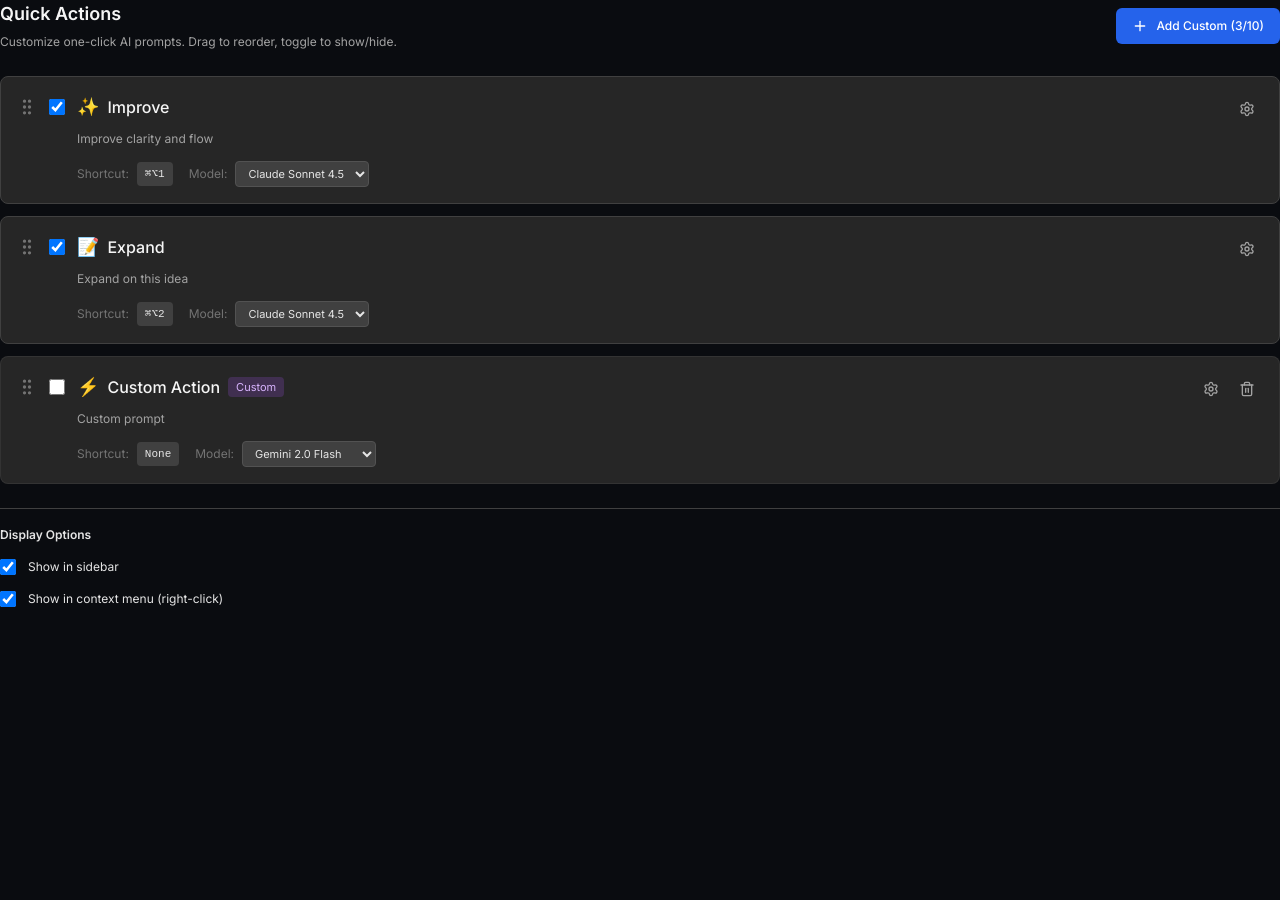
Test case: QuickActionsSettings › Add Custom Action › should close modal after successful add
Click the button "Add Custom (3/10)" at {"x": 1198, "y": 26}, box [1116,8,1279,44]
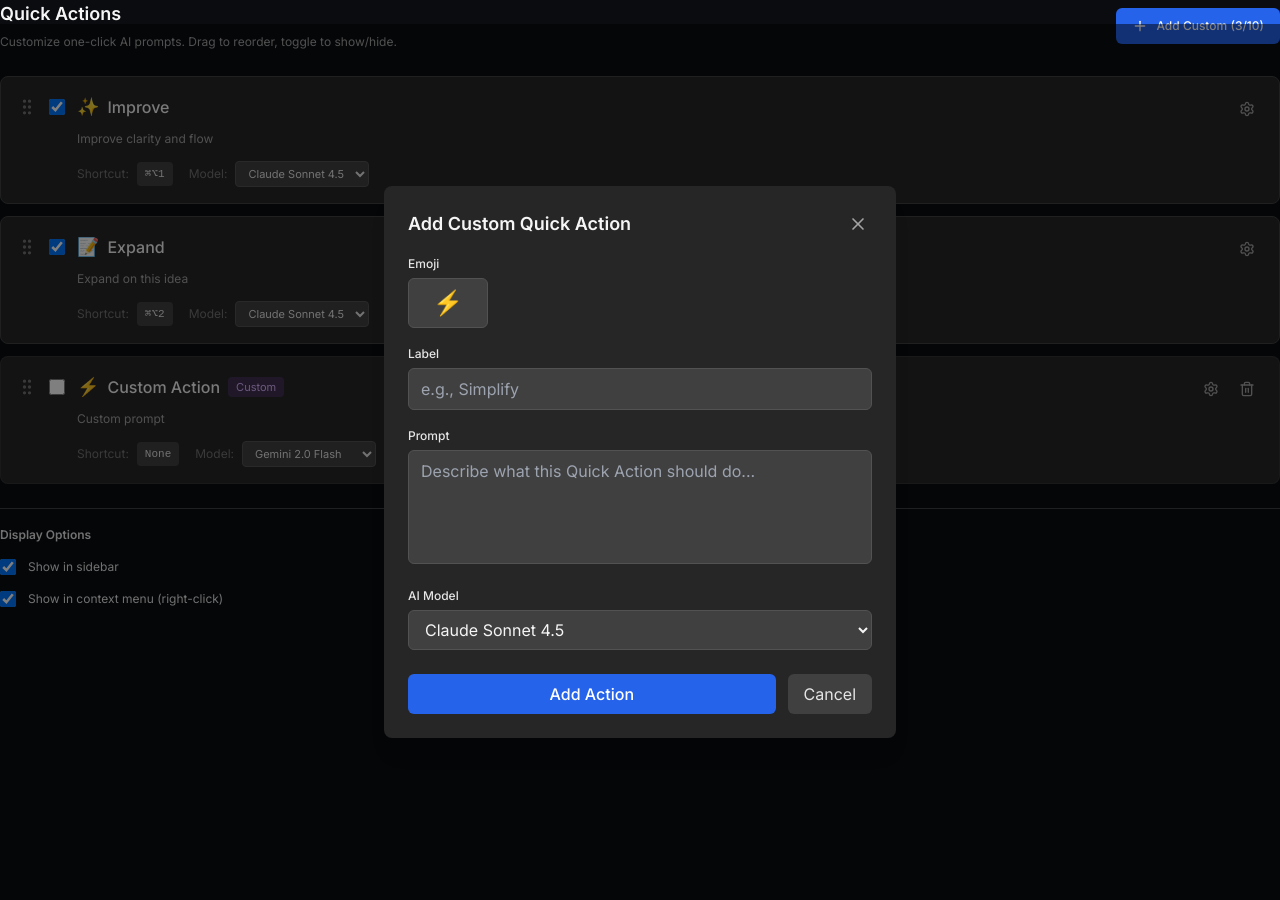
Type "Test" into the field with placeholder "e.g., Simplify" at {"x": 640, "y": 389}, box [408,368,872,410]
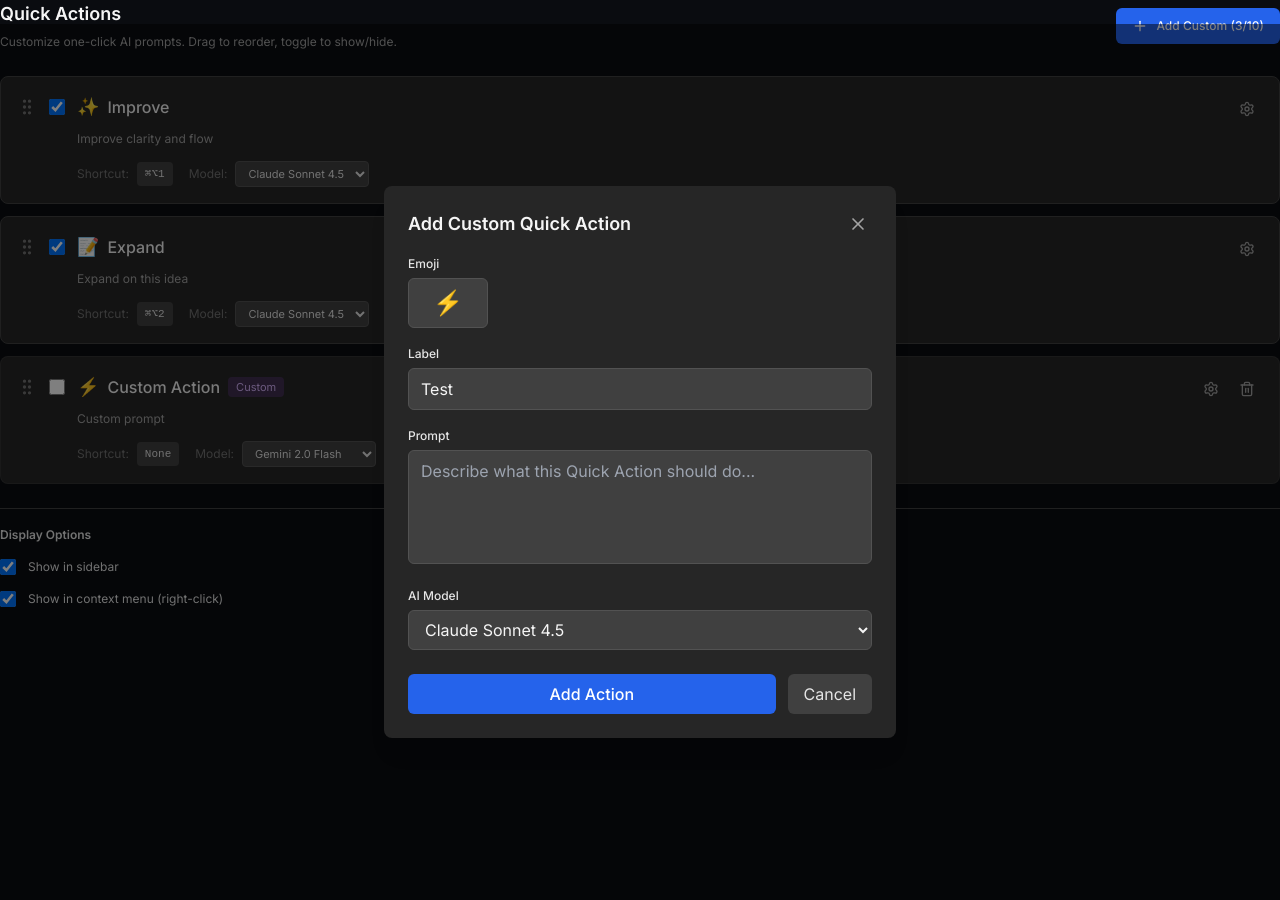
Type "Prompt" into the text box at {"x": 640, "y": 507}, box [408,450,872,564]
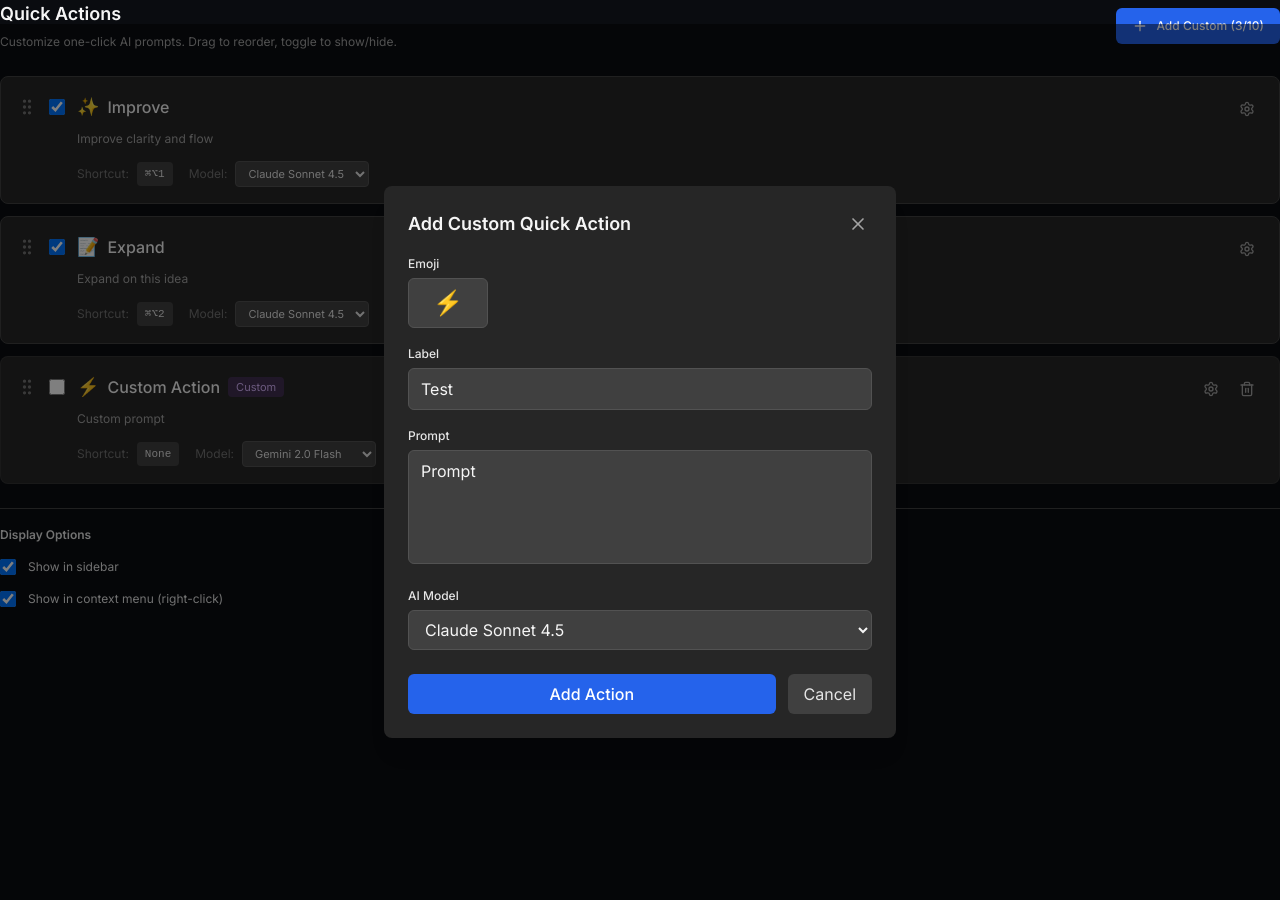
Click the button "Add Action" at {"x": 592, "y": 694}, box [408,674,776,714]
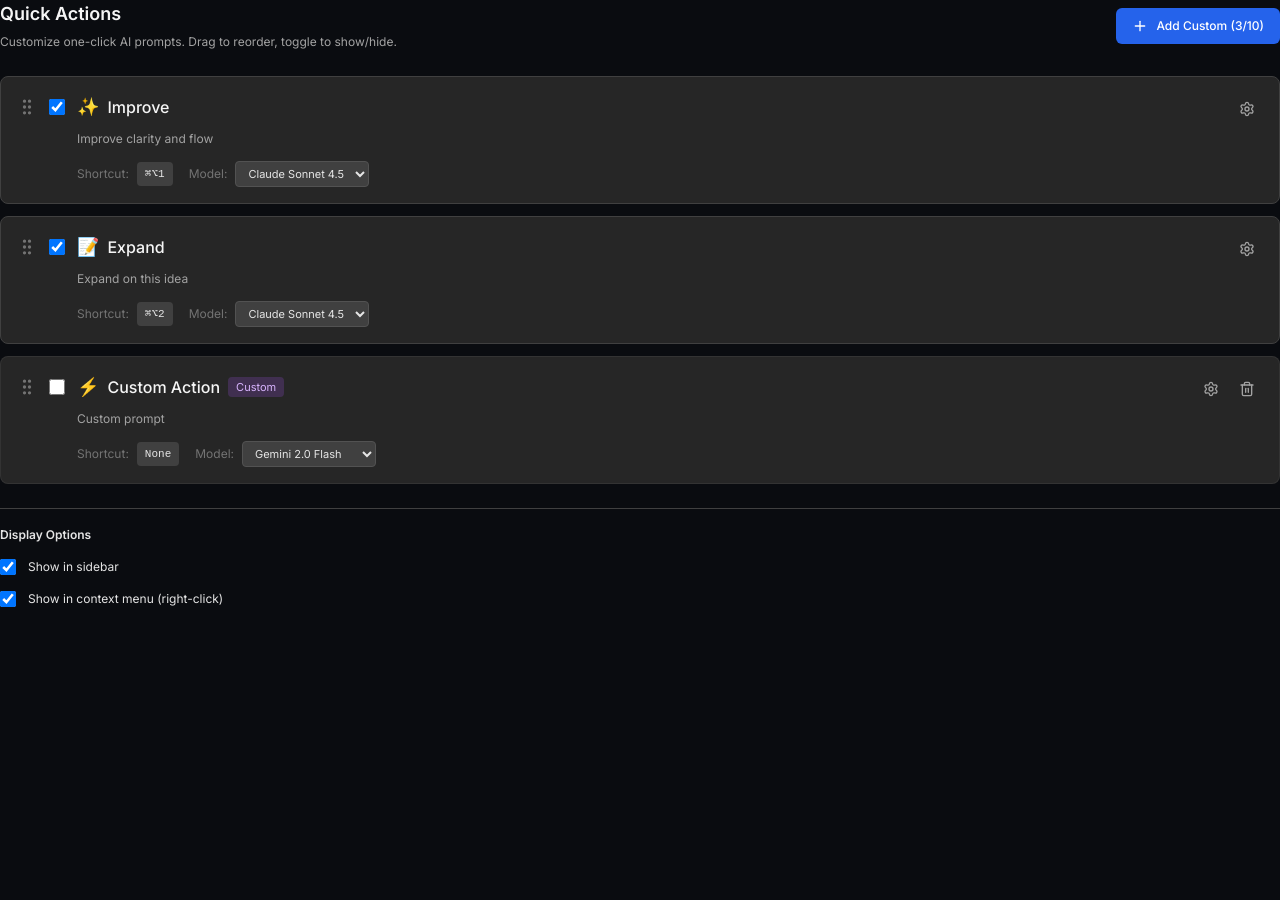
expect the heading "Add Custom Quick Action" is gone: met
